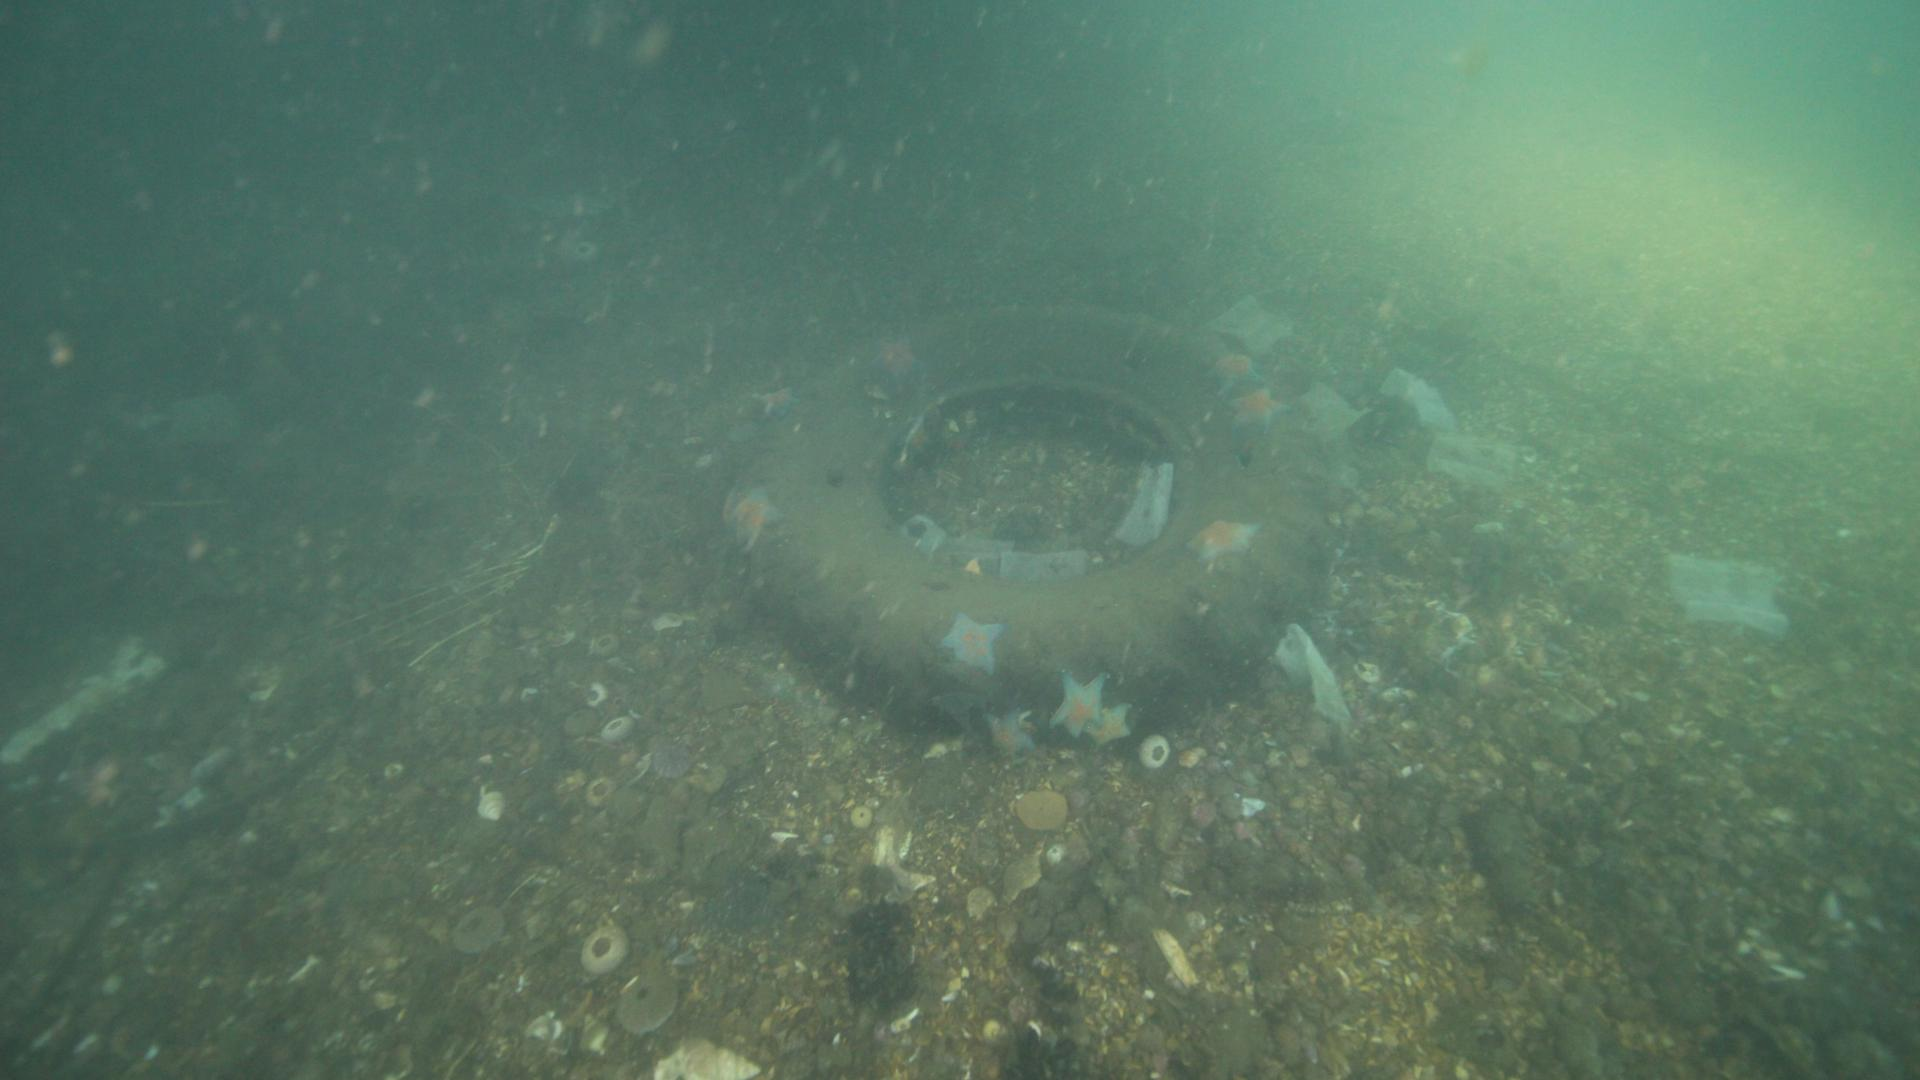tire: (721, 306, 1317, 746)
